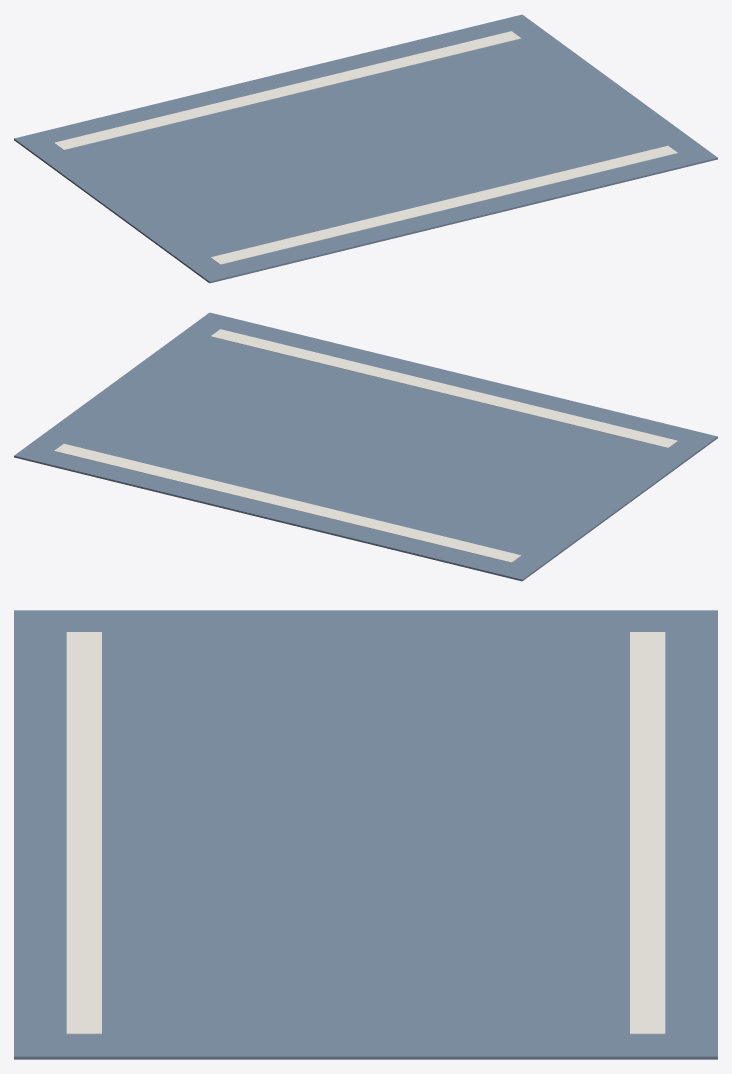
Rendered from rug_lobby.glb.
3 renders of one model, top to bottom at view 1: azimuth 30°, elevation 25°; view 2: azimuth 150°, elevation 25°; view 3: azimuth 270°, elevation 25°, orthographic. The views are drawn at different scales.
Visible parts, largest first — view 1: rug_lobby_rug2, rug_lobby_cream; view 2: rug_lobby_rug2, rug_lobby_cream; view 3: rug_lobby_rug2, rug_lobby_cream.
Part boxes in pixels (left/top/right/bottom): rug_lobby_rug2: left=14, top=14, right=717, bottom=283; rug_lobby_cream: left=54, top=31, right=677, bottom=264; rug_lobby_rug2: left=14, top=312, right=717, bottom=581; rug_lobby_cream: left=54, top=329, right=677, bottom=562; rug_lobby_rug2: left=14, top=610, right=717, bottom=1059; rug_lobby_cream: left=66, top=632, right=665, bottom=1034.
Bounding box in the file's own units: 2.4 × 0.0095 × 1.6.
